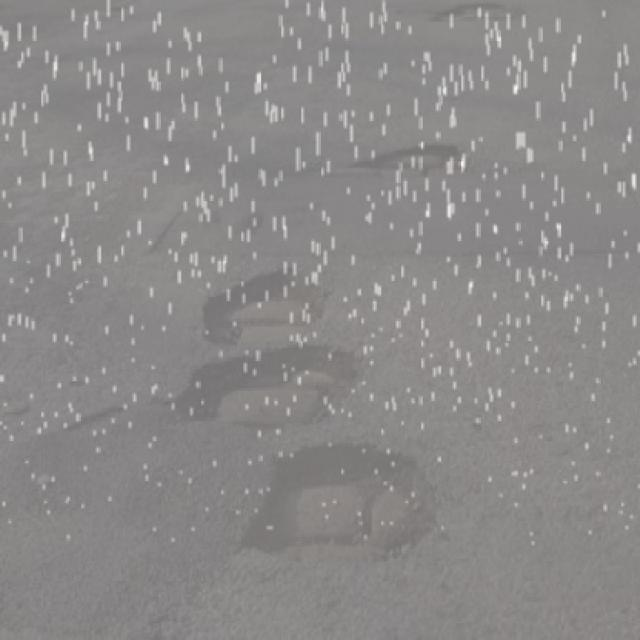Pothole: (229, 437, 433, 574), (157, 340, 363, 428), (194, 267, 330, 347), (353, 137, 472, 195), (58, 401, 131, 441), (439, 0, 525, 24)
